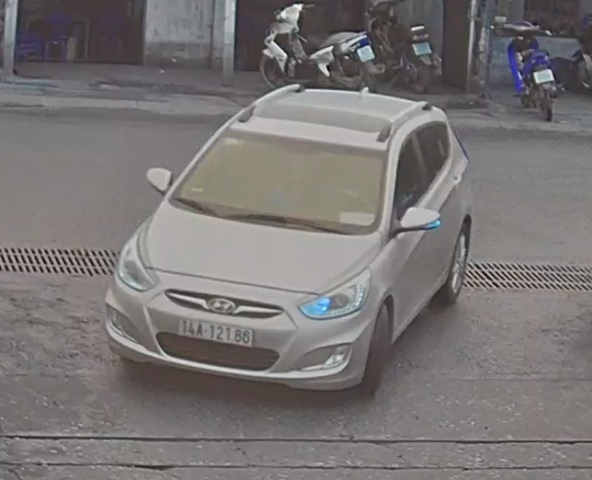vehicle plate: (177, 312, 254, 348)
